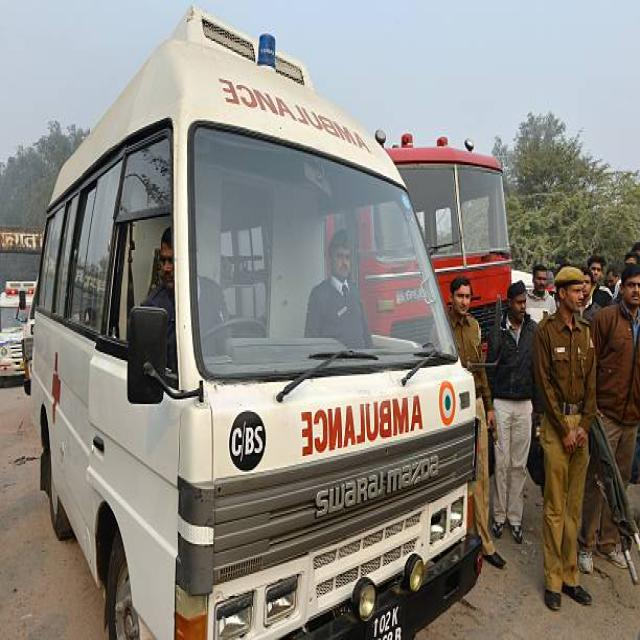ambulance: (29, 3, 482, 640)
